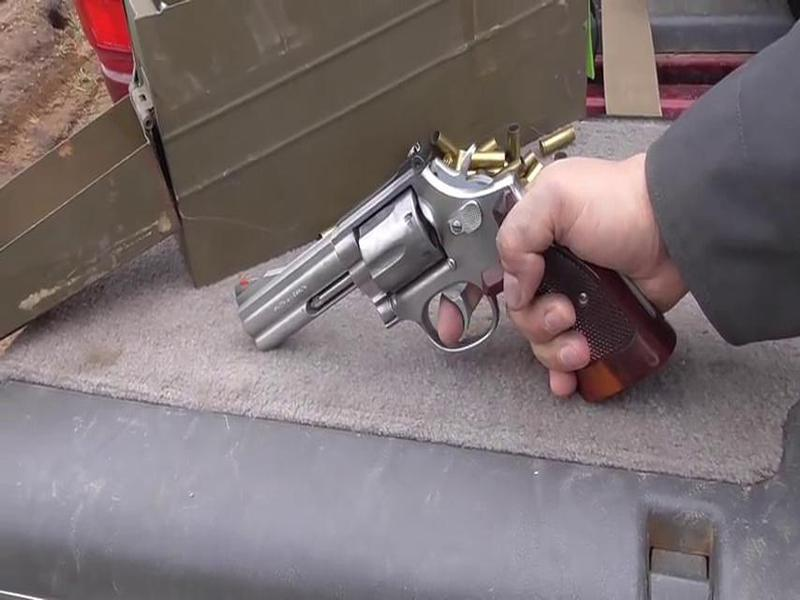Revolver: (229, 144, 573, 397)
